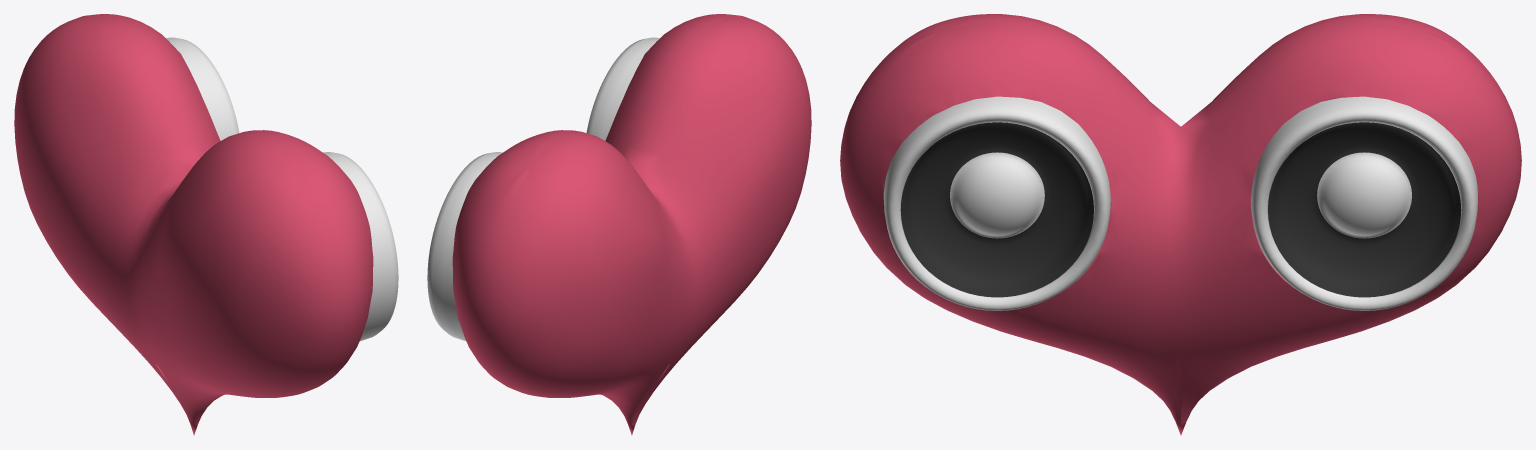
File: heart.fbx
The picture shows the model from 3 angles, left to right: view 1: azimuth 30°, elevation 25°; view 2: azimuth 150°, elevation 25°; view 3: azimuth 270°, elevation 25°; orthographic projection. The views are drawn at different scales.
Parts seen in each view (by area): view 1: Heart; view 2: Heart; view 3: Heart.
Part boxes in pixels (<box>): Heart: <box>14,14,398,435</box>; Heart: <box>427,14,811,435</box>; Heart: <box>840,14,1521,435</box>.
Size of the model in its own units: 0.0766 by 0.1585 by 0.237.
